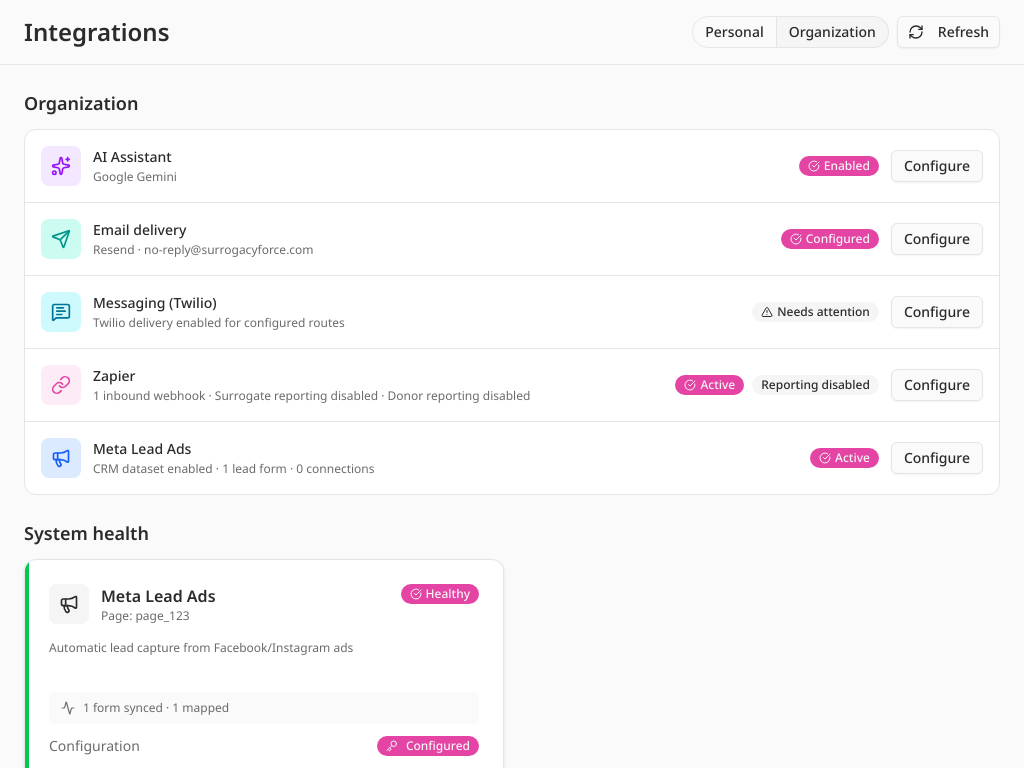
Test case: IntegrationsPage › shows status badge in AI dialog header
Click the button with aria-label "configure ai".
click(937, 166)  # box [891,150,983,182]
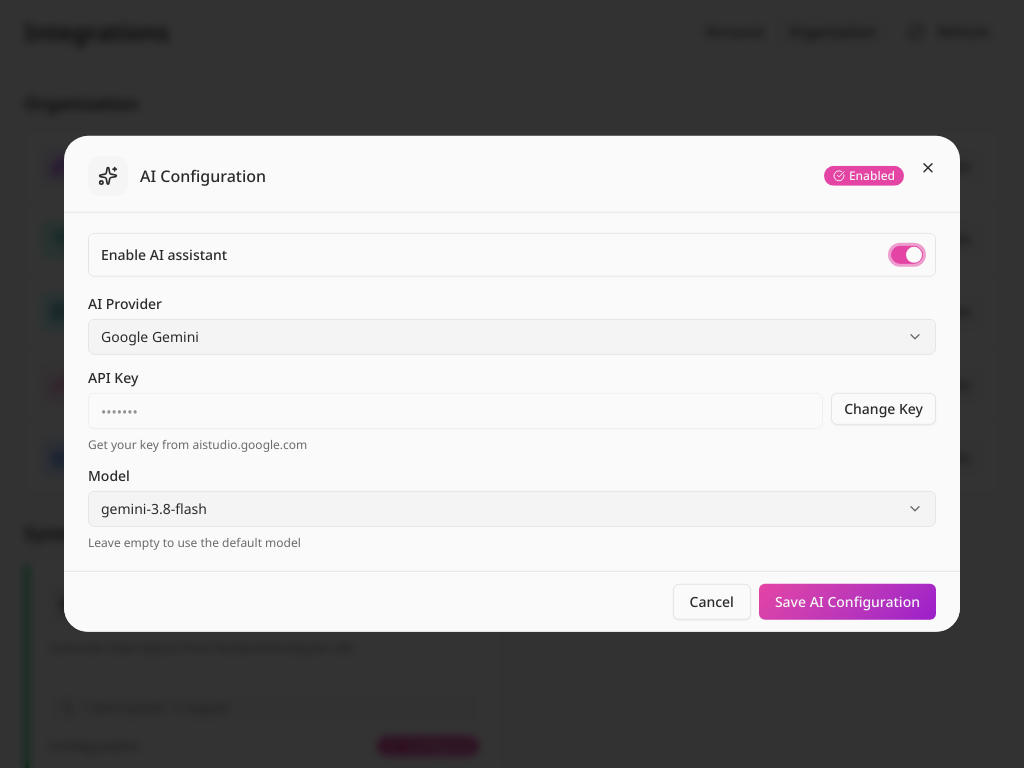
Now the heading "AI Configuration" is shown, box [140,165,266,187]
Now the text "Enabled" is shown, box [824,166,904,186]
Now the button "Save AI Configuration" is shown, box [759,584,936,620]
